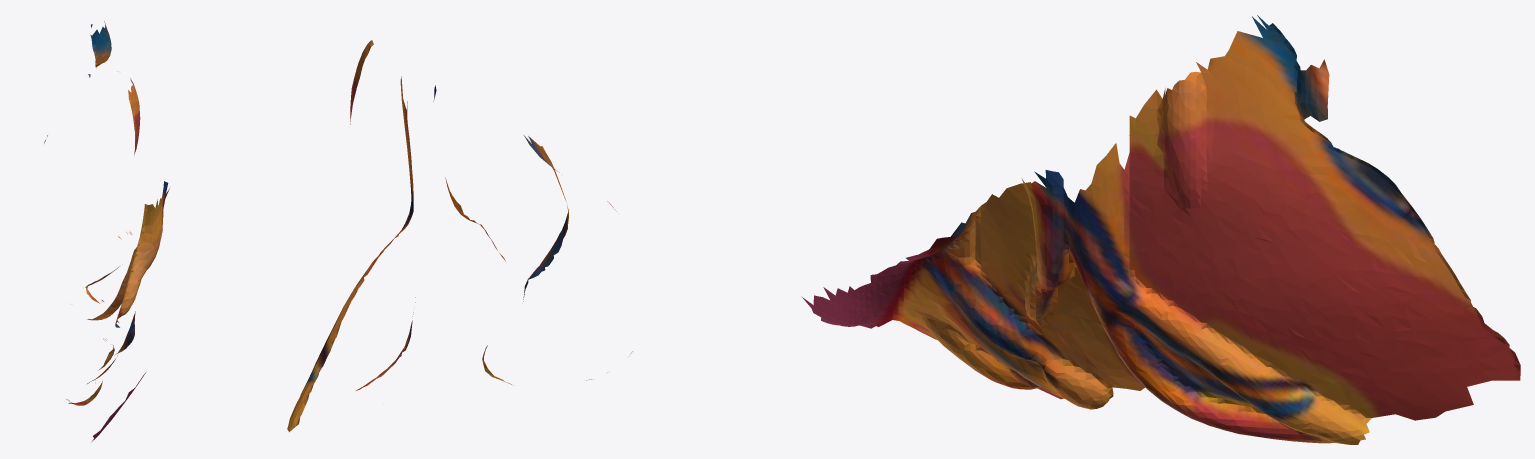
3 views of the same model, side by side, from view 1: azimuth 30°, elevation 25°; view 2: azimuth 150°, elevation 25°; view 3: azimuth 270°, elevation 25° (orthographic). The views are drawn at different scales.
Visible parts, largest first — view 1: tripo_mesh_045d8eb0-72ec-4624-9759-a425f321d17a; view 2: tripo_mesh_045d8eb0-72ec-4624-9759-a425f321d17a; view 3: tripo_mesh_045d8eb0-72ec-4624-9759-a425f321d17a.
Part boxes in pixels (x1,y1,x2,y2): tripo_mesh_045d8eb0-72ec-4624-9759-a425f321d17a: (44,21,169,441); tripo_mesh_045d8eb0-72ec-4624-9759-a425f321d17a: (287,40,632,432); tripo_mesh_045d8eb0-72ec-4624-9759-a425f321d17a: (801,15,1520,444).
Bounding box in the file's own units: 0.1246 × 0.1958 × 0.2691.
1 material, 1 textured.
